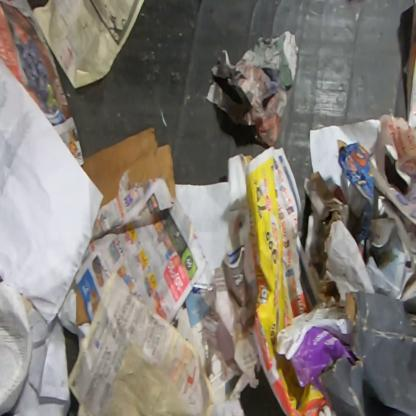cardboard: (315, 289, 415, 415), (302, 170, 376, 314), (81, 126, 176, 207), (72, 280, 91, 326)
